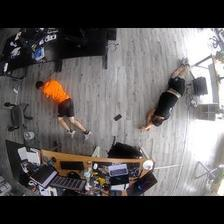fall: (139, 55, 191, 131), (36, 80, 94, 138)
